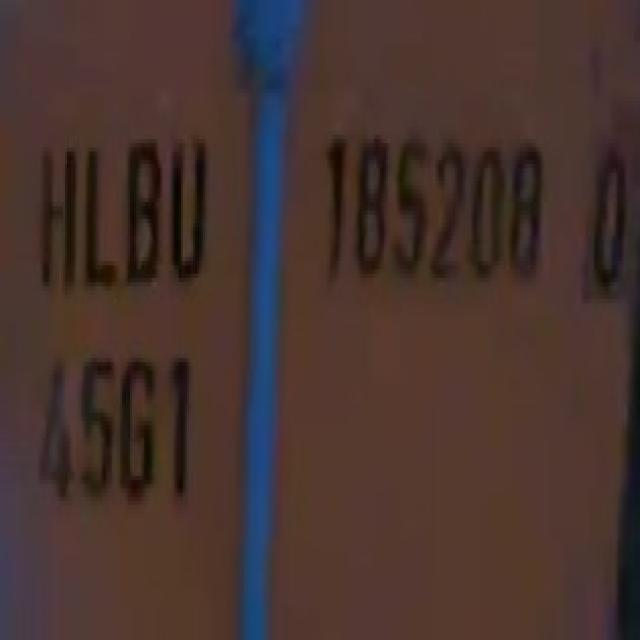dv: (573, 130, 632, 309)
owner: (31, 130, 216, 292)
serial: (314, 112, 555, 320)
size: (21, 325, 204, 541)
